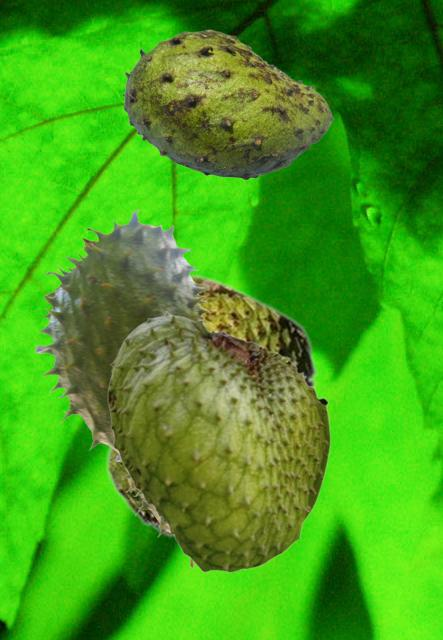guyabano: (107, 309, 330, 572), (102, 273, 317, 541), (35, 209, 212, 490), (122, 29, 332, 179), (115, 455, 194, 568)
